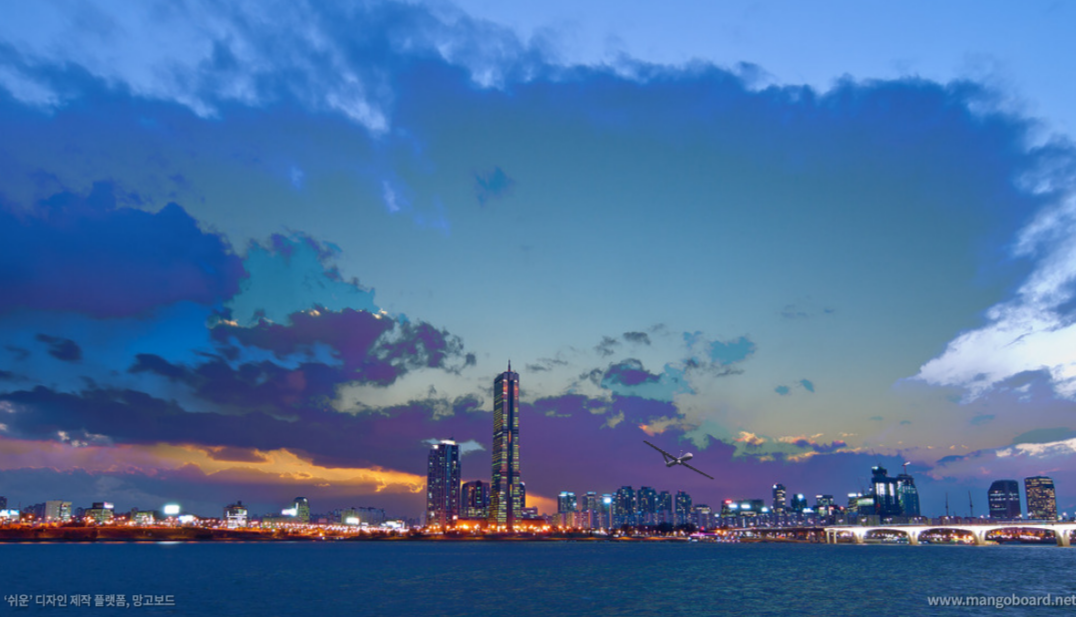military drone: (642, 439, 715, 480)
